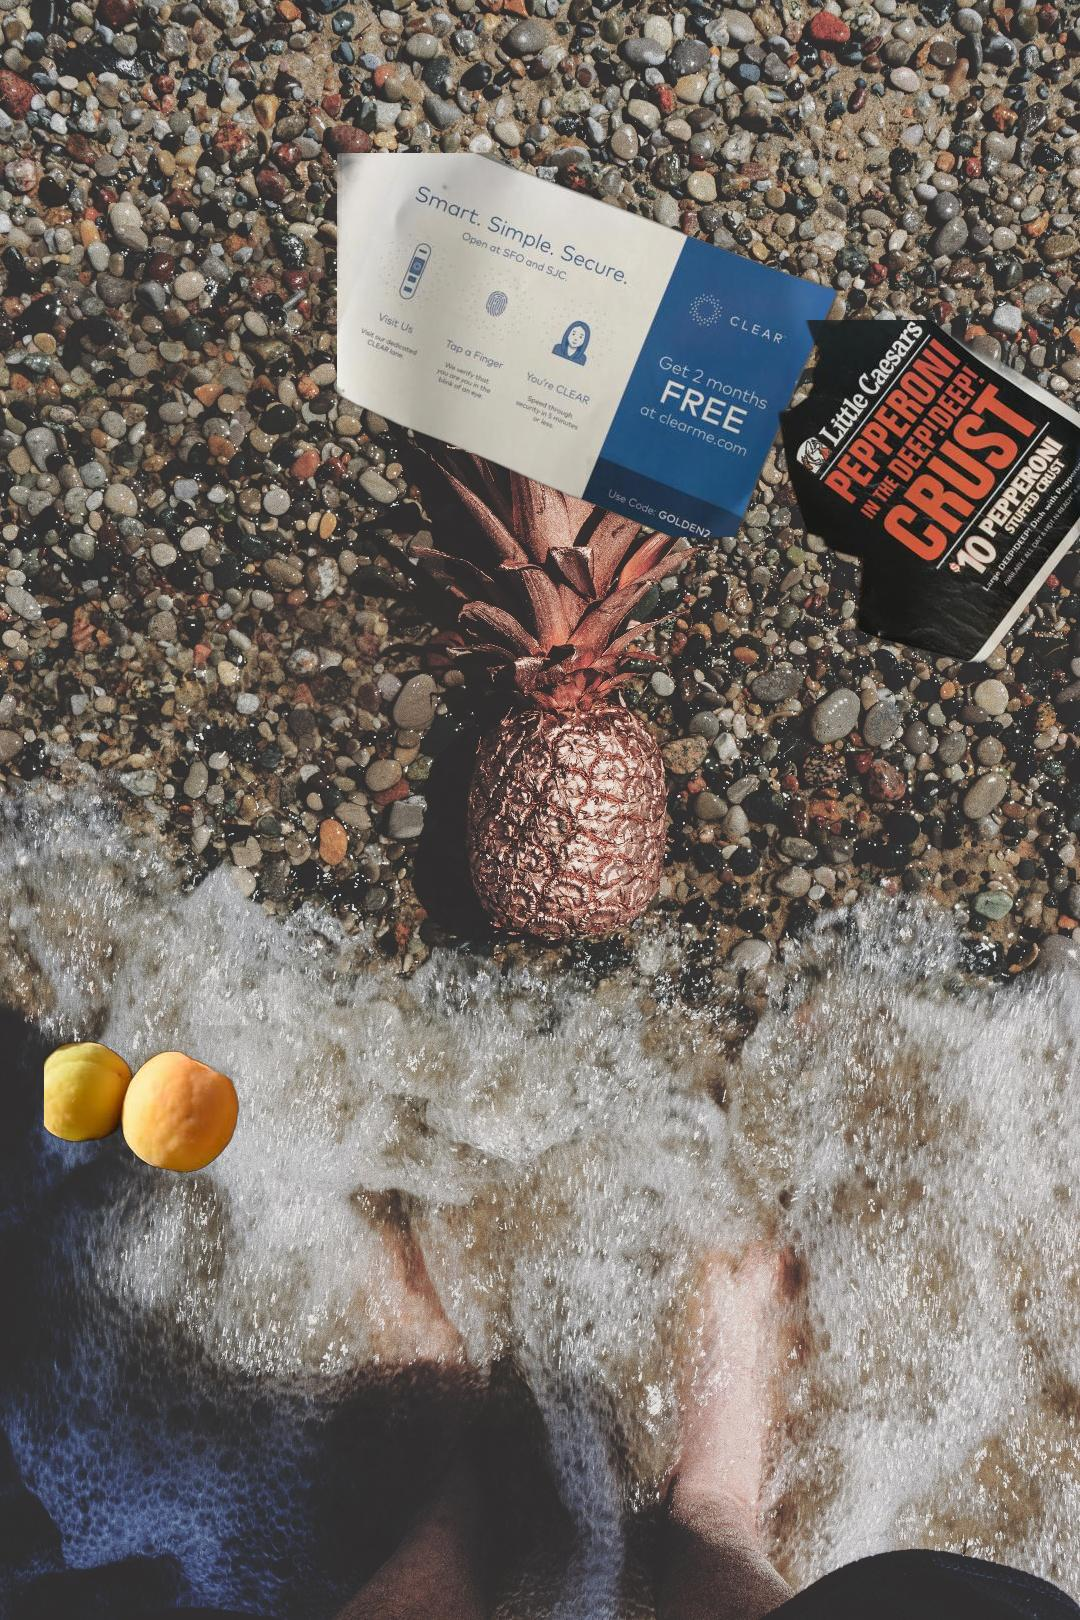biological: (45, 1025, 319, 1175)
paper: (337, 153, 843, 538), (586, 319, 1080, 667)
